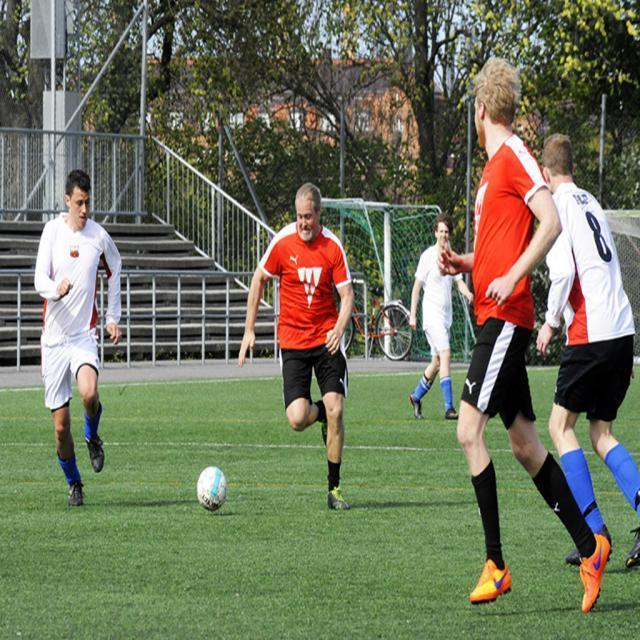ball: (195, 465, 227, 512)
